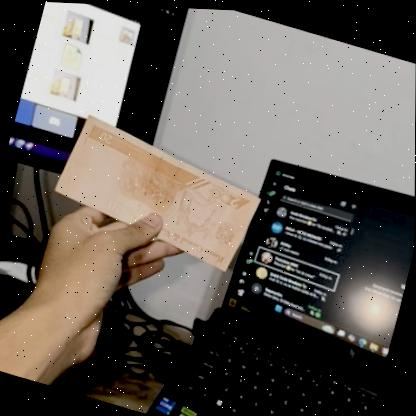twenty-back-vef: (45, 109, 269, 277)
